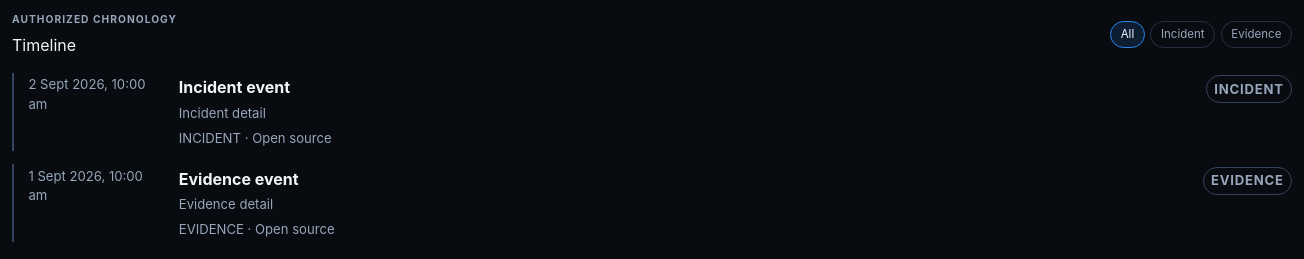
Test: TimelineList › filters an already authorized chronological projection by supported source type
Expected: the text "Incident event" is shown, left=179, top=77, right=290, bottom=97
Click the button "evidence": (1256, 34) left=1221, top=20, right=1292, bottom=48
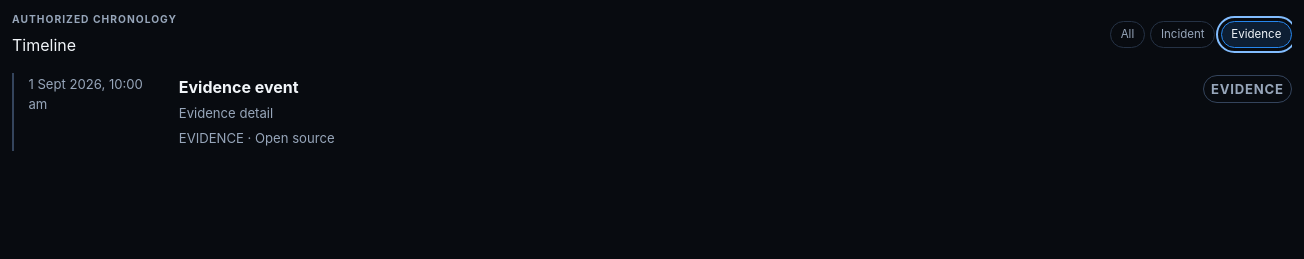
Expected: the text "Evidence event" is shown, left=179, top=77, right=299, bottom=97
Expected: the text "Incident event" is gone
